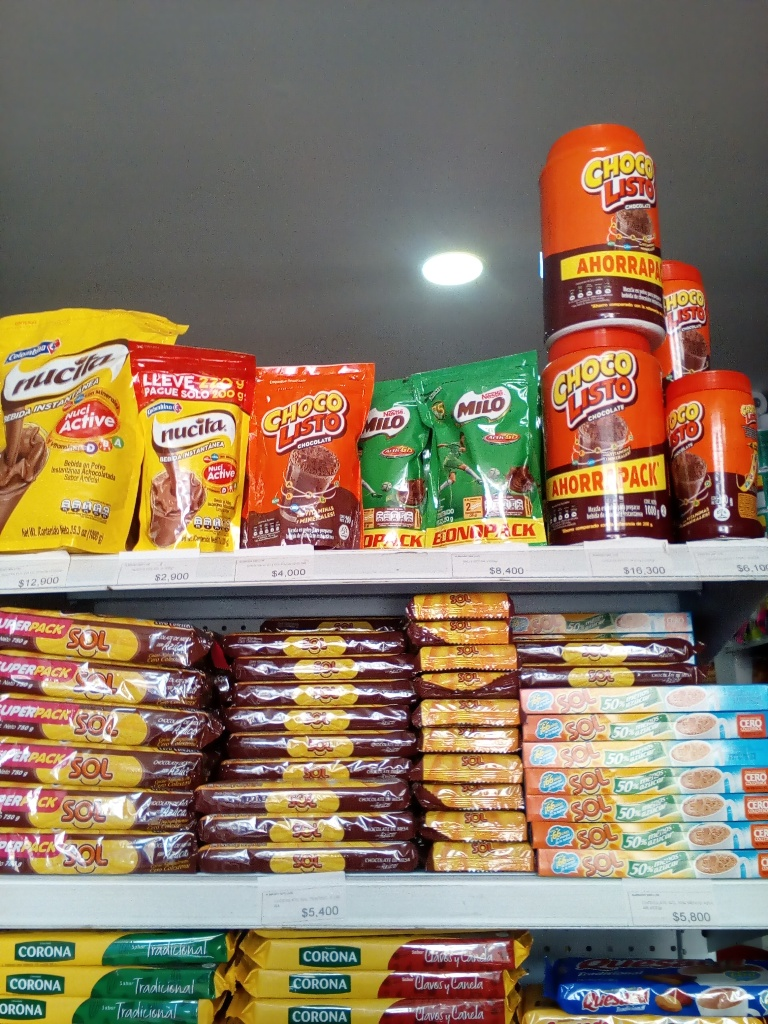COL0170103TRR00100: (533, 115, 671, 336)
